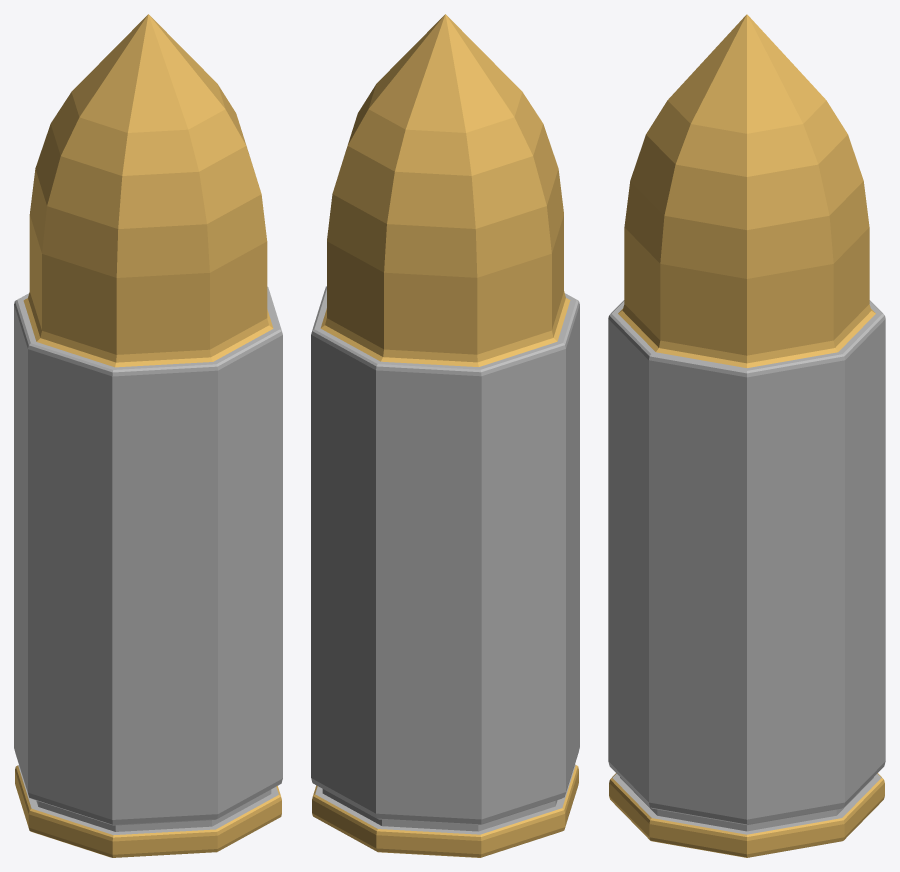
The model's file is Peluru.dae.
The picture shows the model from 3 angles, left to right: view 1: azimuth 30°, elevation 25°; view 2: azimuth 150°, elevation 25°; view 3: azimuth 270°, elevation 25°; orthographic projection.
Parts seen in each view (by area): view 1: Cylinder; view 2: Cylinder; view 3: Cylinder.
Boxes of the visible parts, x1,y1,x2,y2 form: Cylinder: [14, 14, 282, 857]; Cylinder: [311, 14, 579, 857]; Cylinder: [608, 14, 885, 857].
Size of the model in its own units: 0.61 by 0.61 by 1.91.
